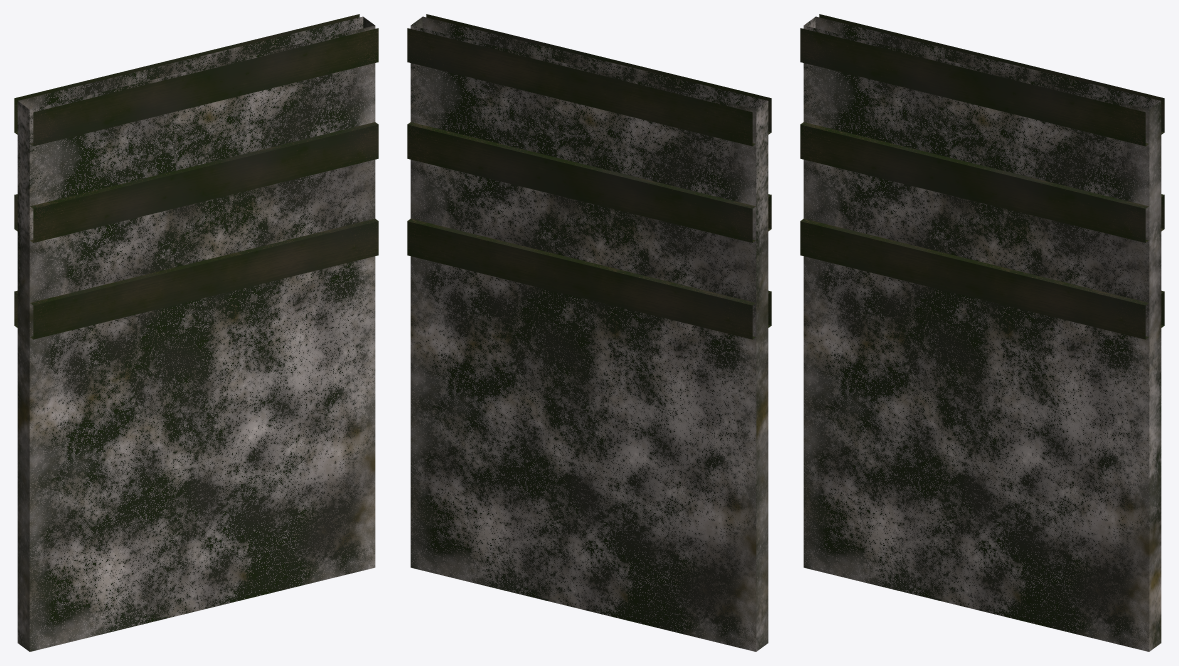
Rendered from shrine_wall.fbx.
The picture shows the model from 3 angles, left to right: view 1: azimuth 30°, elevation 25°; view 2: azimuth 150°, elevation 25°; view 3: azimuth 330°, elevation 25°; orthographic projection.
Parts seen in each view (by area): view 1: shrine_wall1; view 2: shrine_wall1; view 3: shrine_wall1.
Part boxes in pixels (box(x1,y1,x2,y2)): shrine_wall1: box(14, 14, 378, 651); shrine_wall1: box(407, 14, 771, 651); shrine_wall1: box(800, 14, 1164, 651).
Bounding box in the file's own units: 330 × 495 × 31.69.
1 material, 1 textured.
